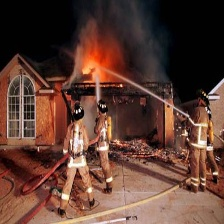fire: (81, 55, 110, 80)
smoke: (68, 3, 166, 59)
